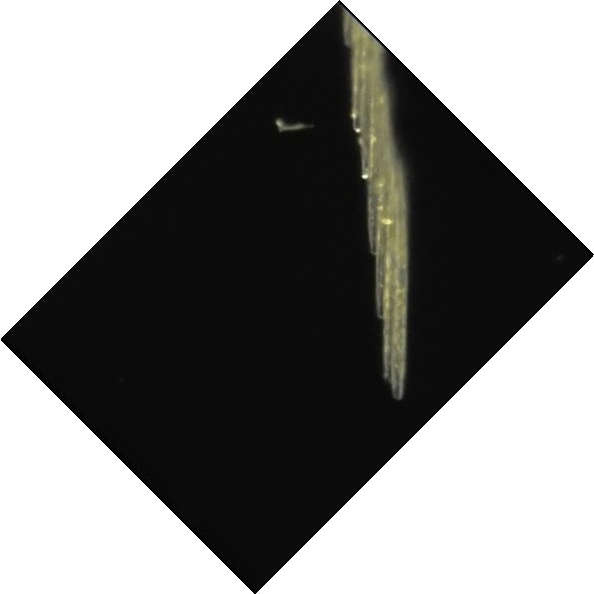bacilleria: (384, 153, 406, 398), (376, 112, 399, 319), (368, 41, 386, 254), (359, 27, 377, 178), (348, 13, 367, 133)
